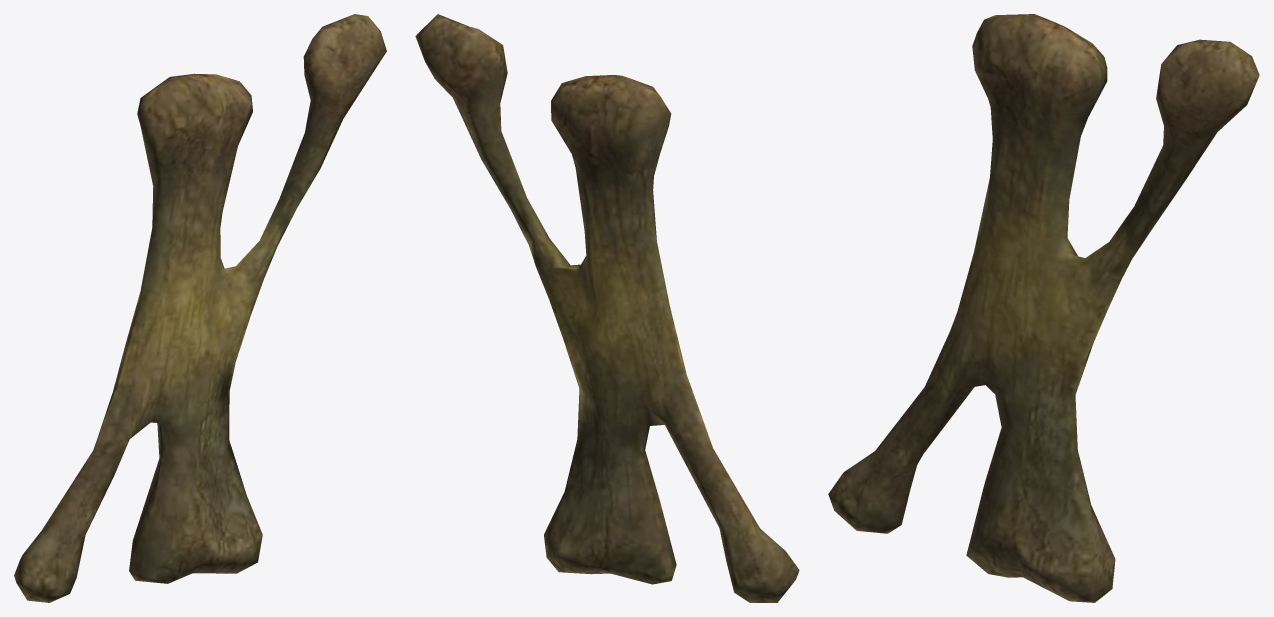
File: Biomass - B 1-DA6EUMor.glb
The picture shows the model from 3 angles, left to right: view 1: azimuth 30°, elevation 25°; view 2: azimuth 150°, elevation 25°; view 3: azimuth 330°, elevation 25°; orthographic projection. The views are drawn at different scales.
Parts seen in each view (by area): view 1: BiomassB_1; view 2: BiomassB_1; view 3: BiomassB_1.
Part boxes in pixels (x1,y1,x2,y2): BiomassB_1: (14, 14, 386, 602); BiomassB_1: (415, 14, 799, 602); BiomassB_1: (828, 14, 1259, 602).
Size of the model in its own units: 1.13 by 1.51 by 0.1823.
1 material, 1 textured.
